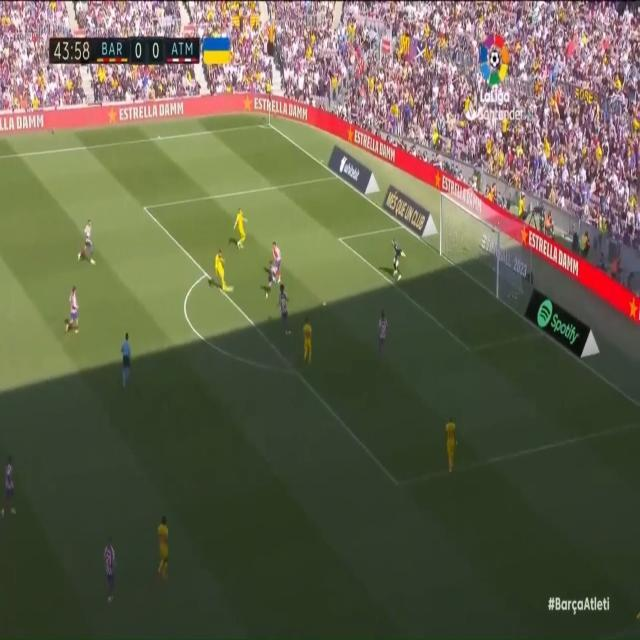ball: (262, 290, 270, 299)
goalkeeper: (384, 234, 408, 285)
player: (153, 513, 175, 586), (99, 531, 119, 607), (0, 451, 20, 526), (438, 414, 460, 473), (77, 214, 97, 266), (63, 286, 82, 340), (372, 311, 393, 359), (211, 252, 233, 294), (275, 281, 292, 333), (234, 208, 251, 256), (298, 320, 315, 363), (265, 256, 280, 301), (271, 236, 282, 290)
referee: (116, 327, 135, 385)
